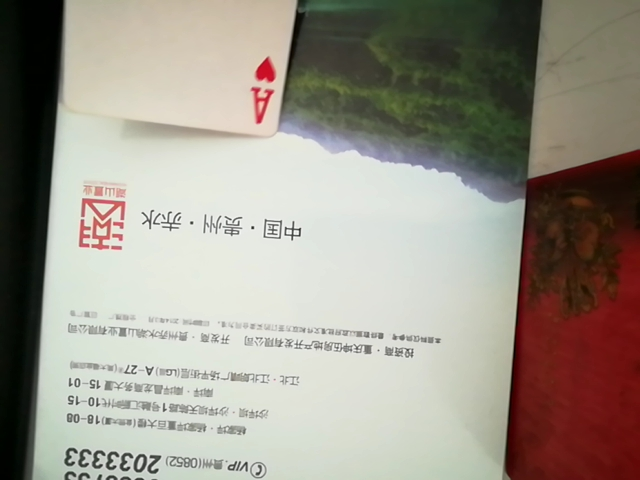hx a: (57, 0, 335, 131)
